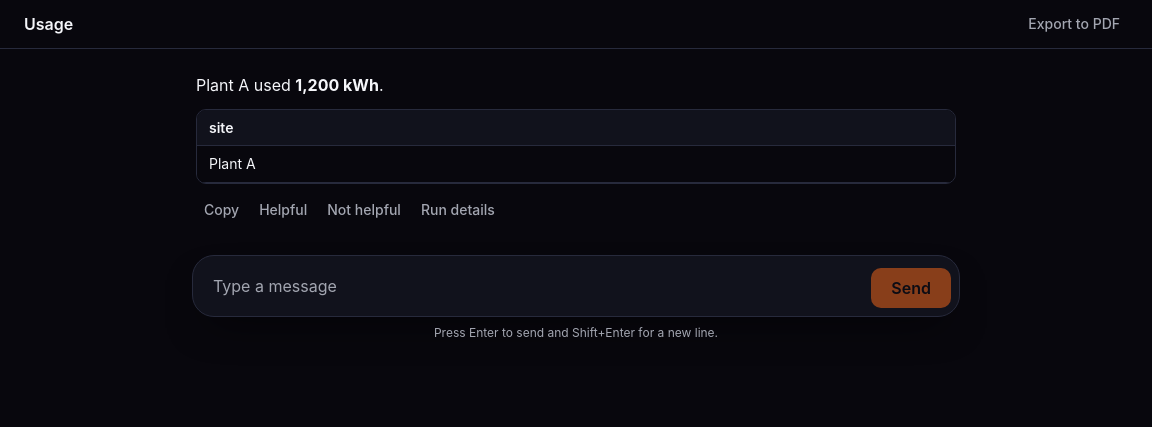
Test: message actions › [U-13] Export to PDF prints the conversation; a failed rating shows the error
Click the button "Export to PDF" at (1074, 24), box [1020,10,1128,38]
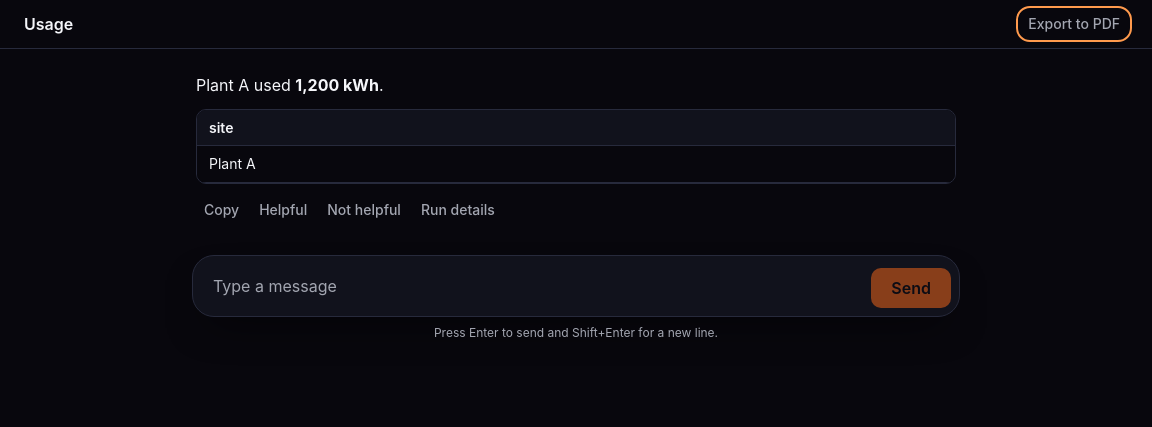
Click the button "Helpful" at (283, 210), box [251,196,315,223]
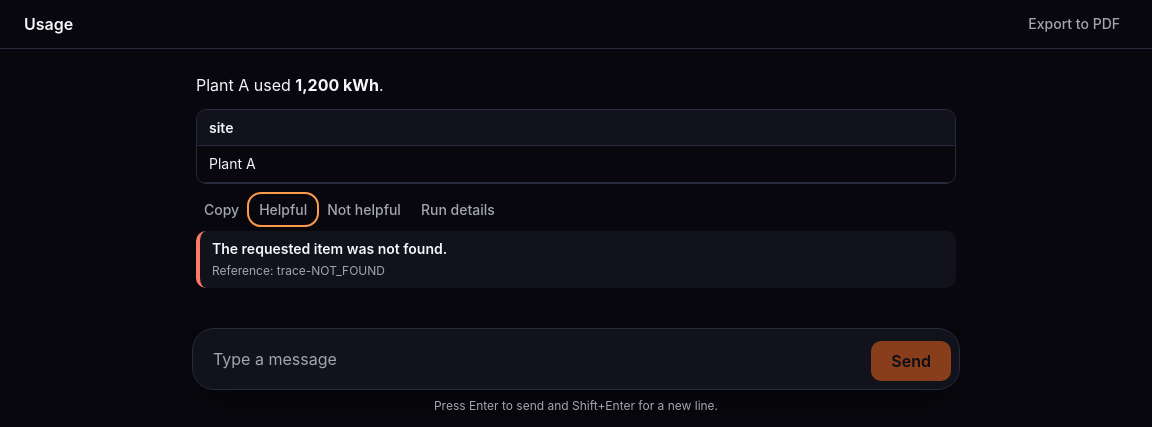
Check: the message shows "The requested item was not found.", box [212,240,447,257]
